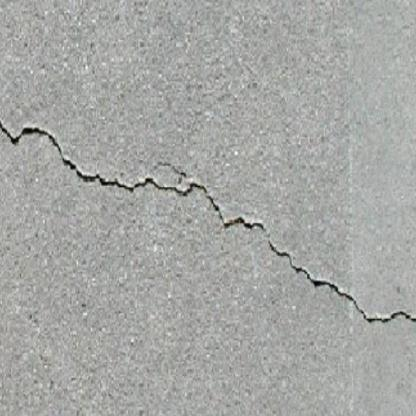Cracks: (0, 115, 416, 328)
